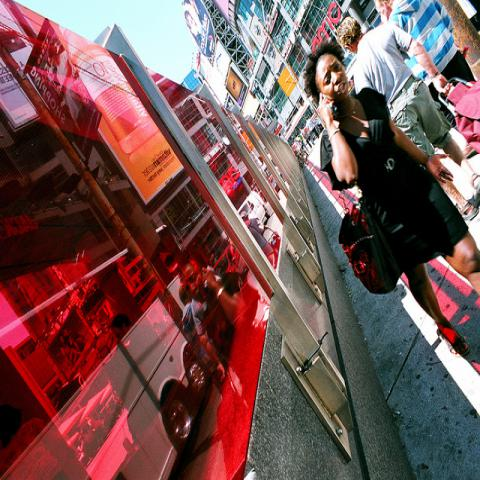bus: (0, 251, 213, 479)
car: (343, 50, 357, 81)
